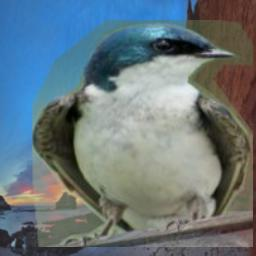Swallow: (32, 20, 253, 247)
